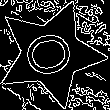O_E: (20, 27, 81, 81)
